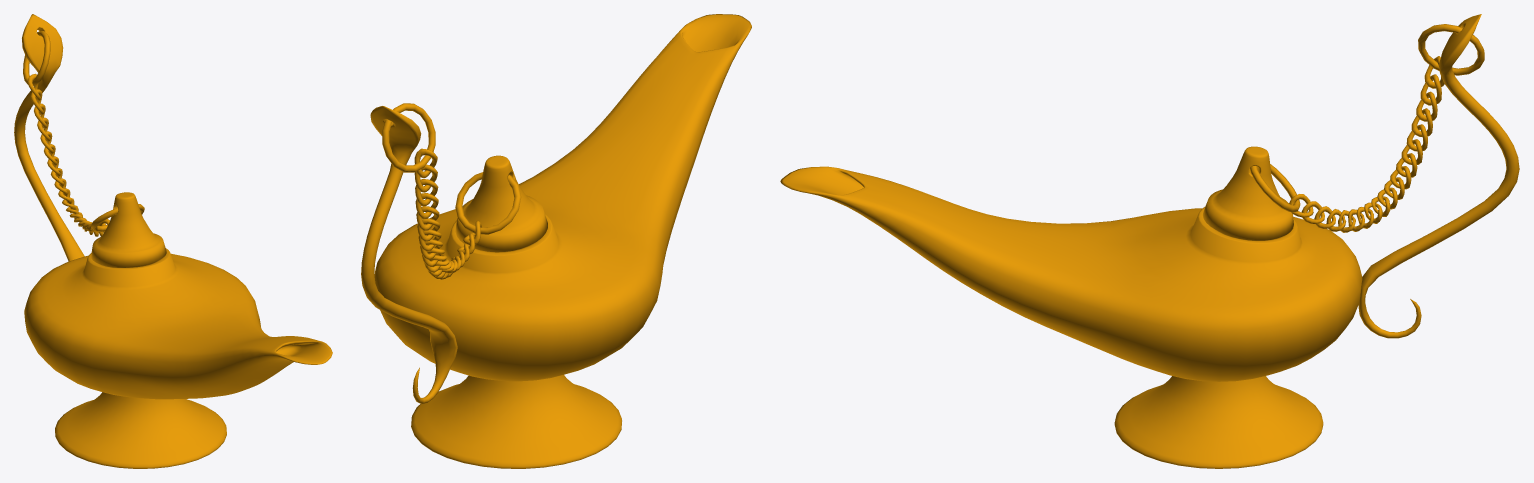
Rendered from Genie.fbx.
The picture shows the model from 3 angles, left to right: view 1: azimuth 30°, elevation 25°; view 2: azimuth 150°, elevation 25°; view 3: azimuth 270°, elevation 25°; orthographic projection. The views are drawn at different scales.
Parts seen in each view (by area): view 1: Lamp, Lamp_chain; view 2: Lamp, Lamp_chain; view 3: Lamp, Lamp_chain.
Boxes of the visible parts, <box> form: Lamp: <box>14,14,332,468</box>; Lamp_chain: <box>23,31,144,236</box>; Lamp: <box>361,14,751,468</box>; Lamp_chain: <box>382,103,521,279</box>; Lamp: <box>780,14,1519,468</box>; Lamp_chain: <box>1250,24,1484,232</box>.
Size of the model in its own units: 45.28 by 72.8 by 119.
